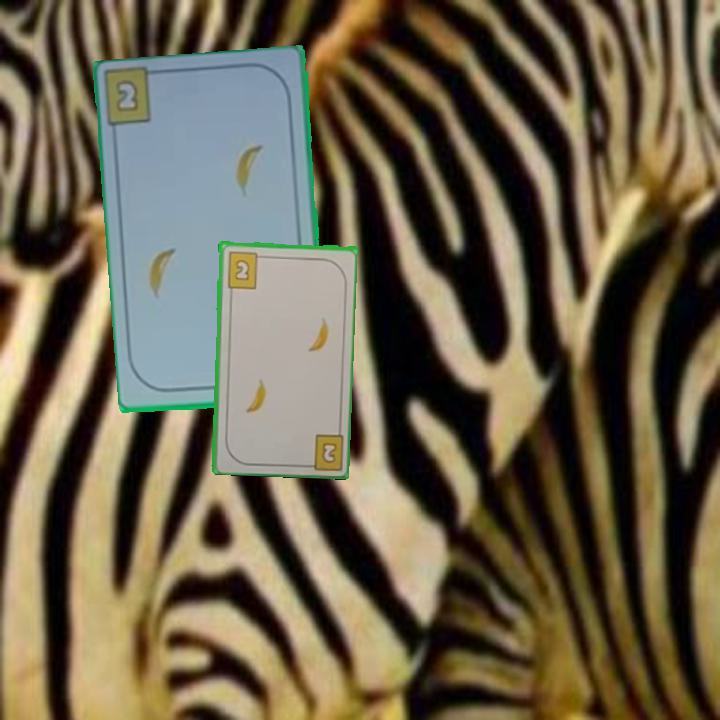2b: (300, 429, 345, 471), (223, 248, 266, 291), (112, 76, 142, 116)
